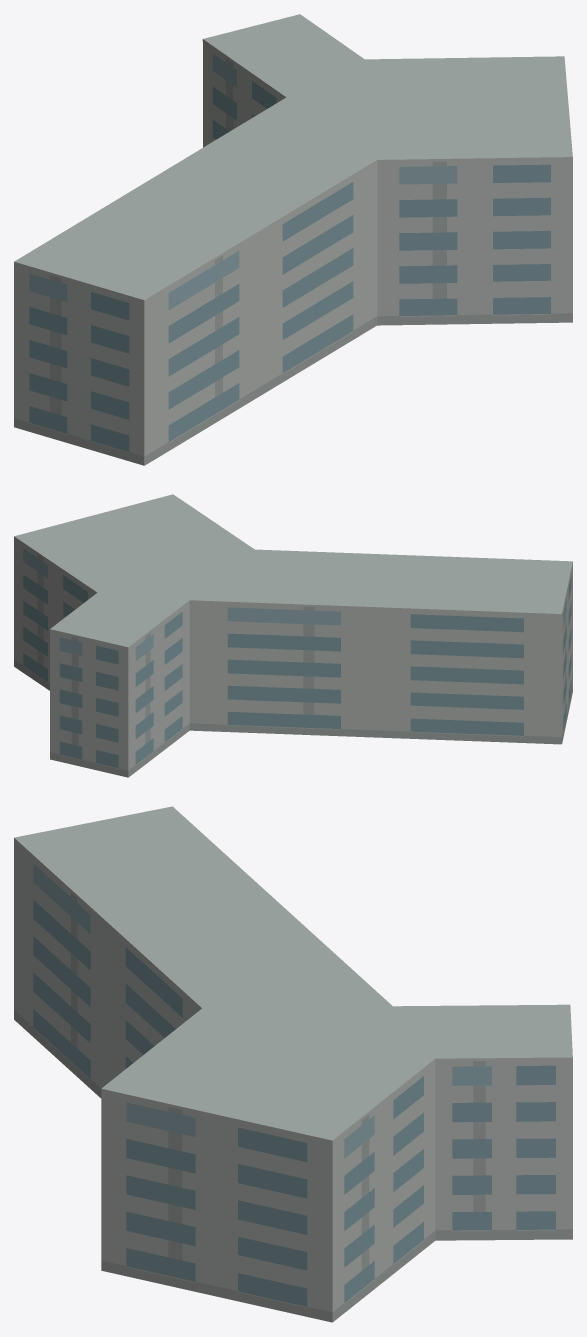
Rendered from residential-363cb0b8-912e-4f08-a62f-8a2e073def01.glb.
3 views of the same model, one above another, from view 1: azimuth 30°, elevation 25°; view 2: azimuth 150°, elevation 25°; view 3: azimuth 270°, elevation 25° (orthographic). The views are drawn at different scales.
Parts seen in each view (by area): view 1: residential-363cb0b8-912e-4f08-a62f-8a2e073def01.tmp; view 2: residential-363cb0b8-912e-4f08-a62f-8a2e073def01.tmp; view 3: residential-363cb0b8-912e-4f08-a62f-8a2e073def01.tmp.
Boxes of the visible parts, bbox=[...] form: residential-363cb0b8-912e-4f08-a62f-8a2e073def01.tmp: bbox=[14, 14, 572, 465]; residential-363cb0b8-912e-4f08-a62f-8a2e073def01.tmp: bbox=[14, 494, 572, 777]; residential-363cb0b8-912e-4f08-a62f-8a2e073def01.tmp: bbox=[14, 806, 572, 1322].
Size of the model in its own units: 60.08 by 15.25 by 42.46.
